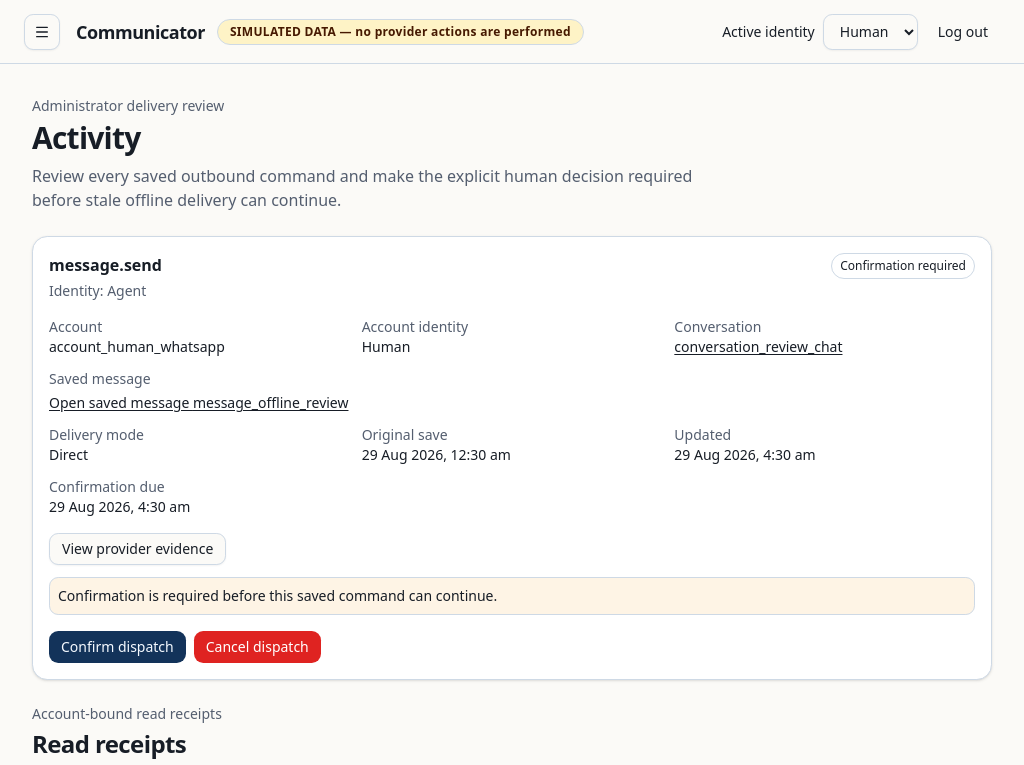
Test case: administrator activity › loads durable stage evidence for the selected command
Click the button "View provider evidence" at coordinates (138, 549), box [49,533,226,565]
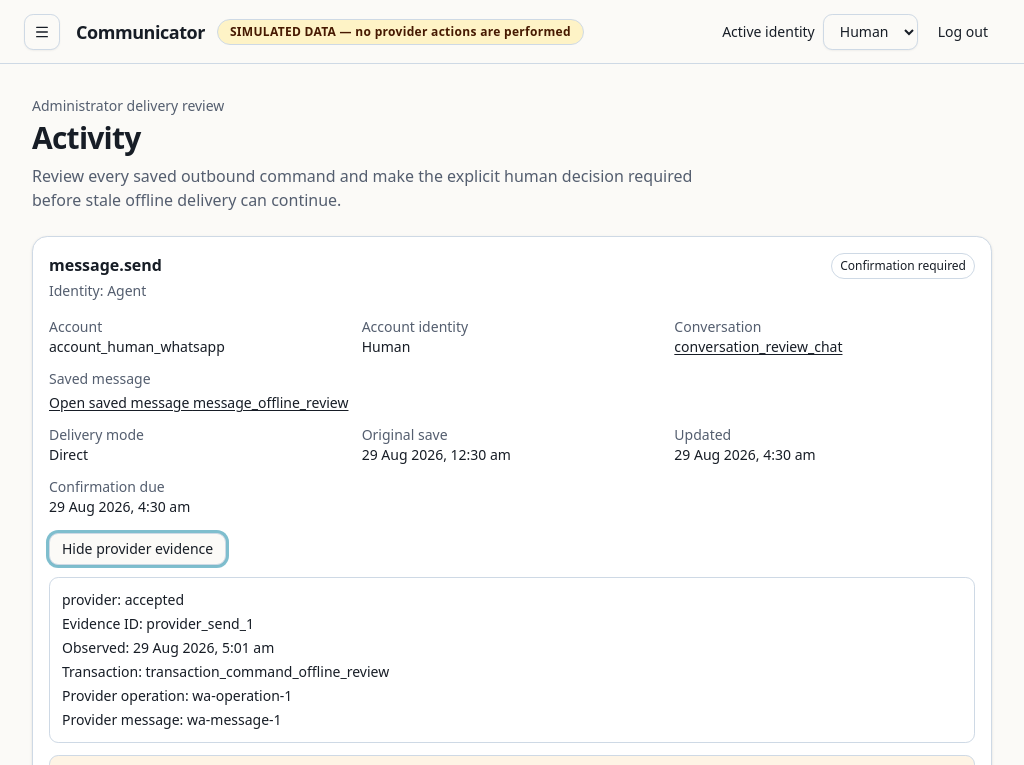
expect the text "provider: accepted" is shown: met, box [62,590,184,609]
expect the text "Provider operation: wa-operation-1" is shown: met, box [62,686,292,705]
expect the text "Provider message: wa-message-1" is shown: met, box [62,710,282,729]
